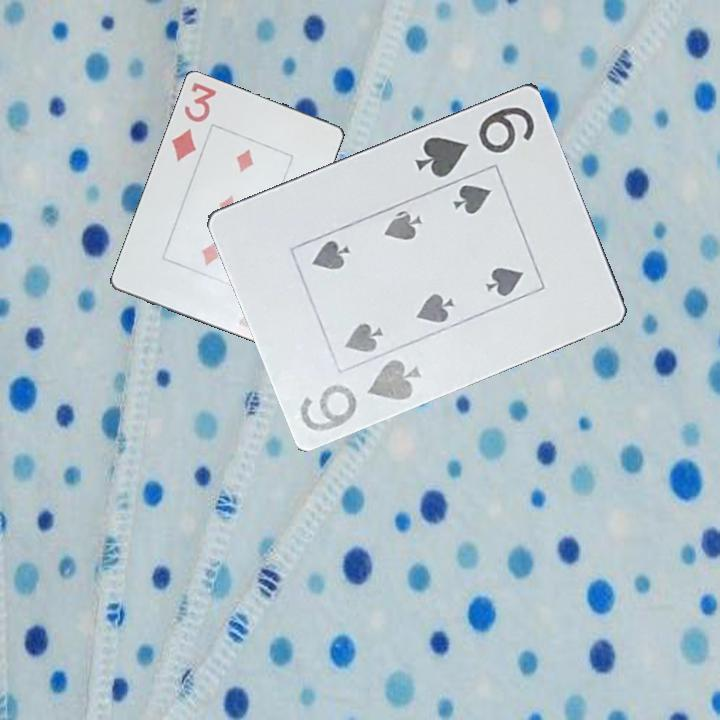3d: (166, 79, 220, 165)
6s: (296, 354, 425, 434), (411, 102, 538, 180)
